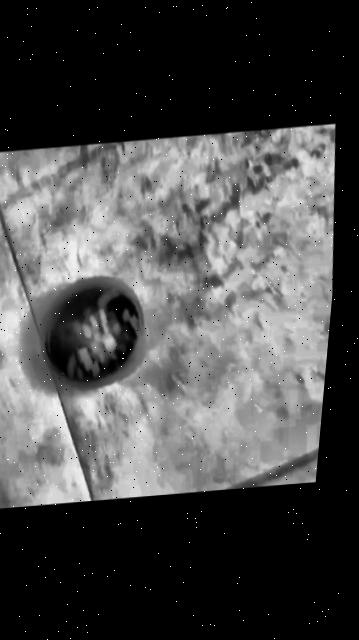pot: (31, 273, 152, 393)
